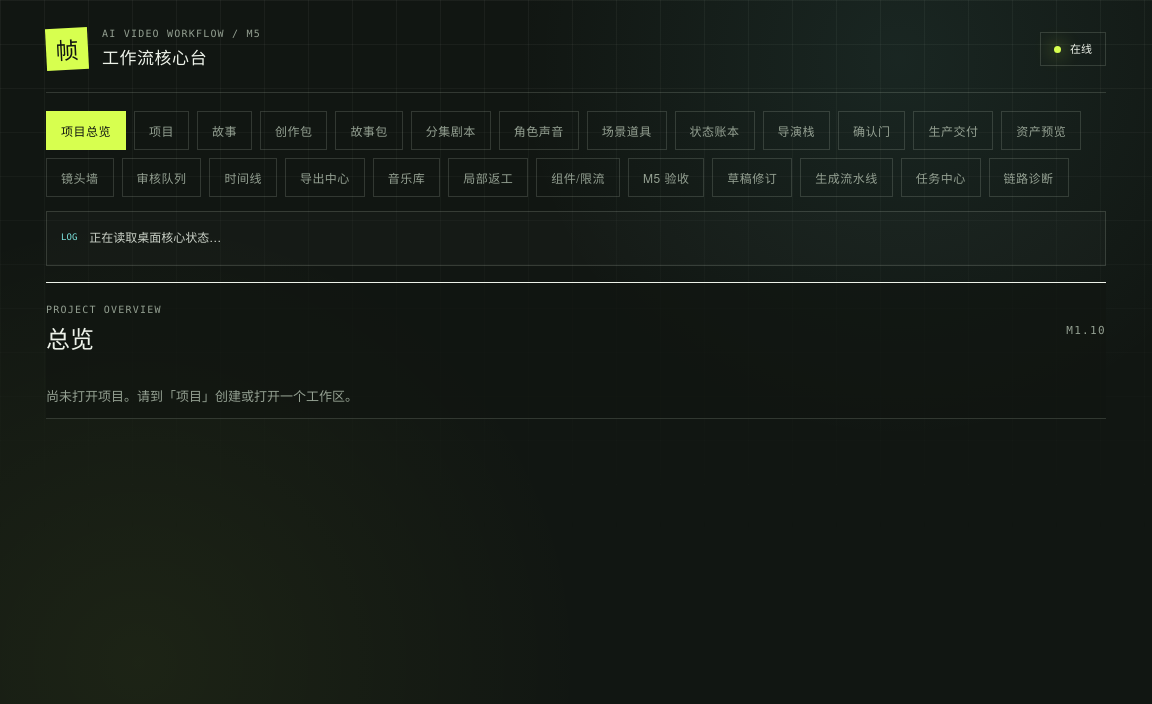
Test: M1 shell › loads supervisor status in the link diagnostics view
Click the button "链路诊断". click: click(1029, 178)
box: x1=989 y1=158 x2=1068 y2=197
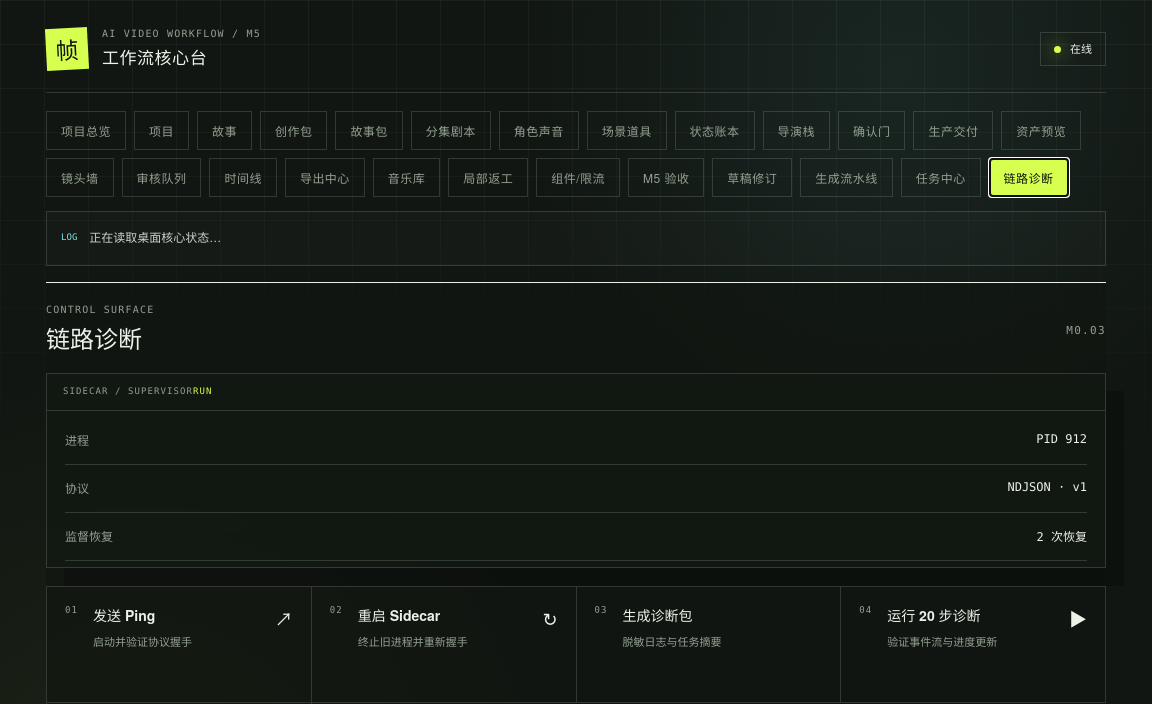
Expected: the text "在线" is shown, x1=1070 y1=41 x2=1092 y2=57
Result: the text "PID 912" is shown at x1=1036 y1=432 x2=1087 y2=446
Result: the text "2 次恢复" is shown at x1=1036 y1=530 x2=1087 y2=544
